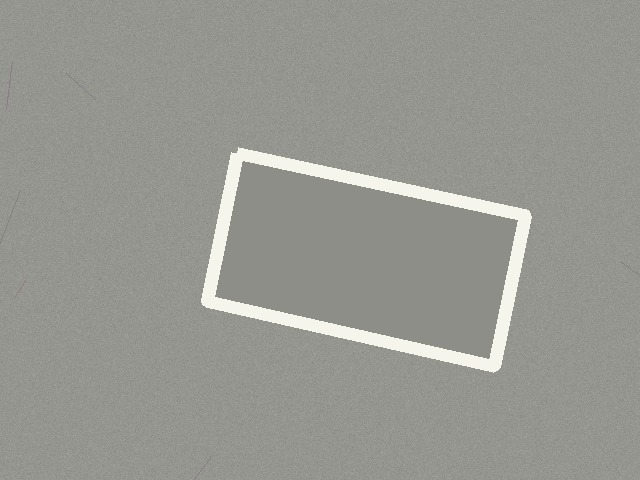parking_area: (207, 153, 525, 366)
